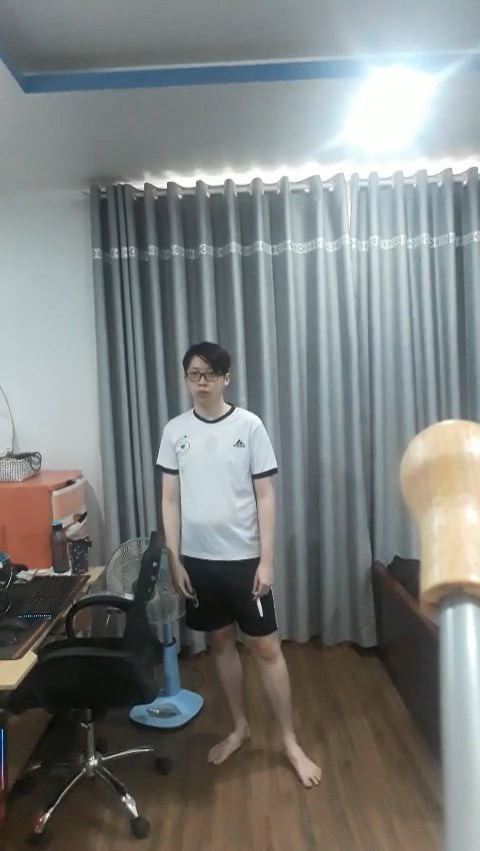cigarette: (255, 595, 267, 620)
person: (146, 337, 315, 789)
